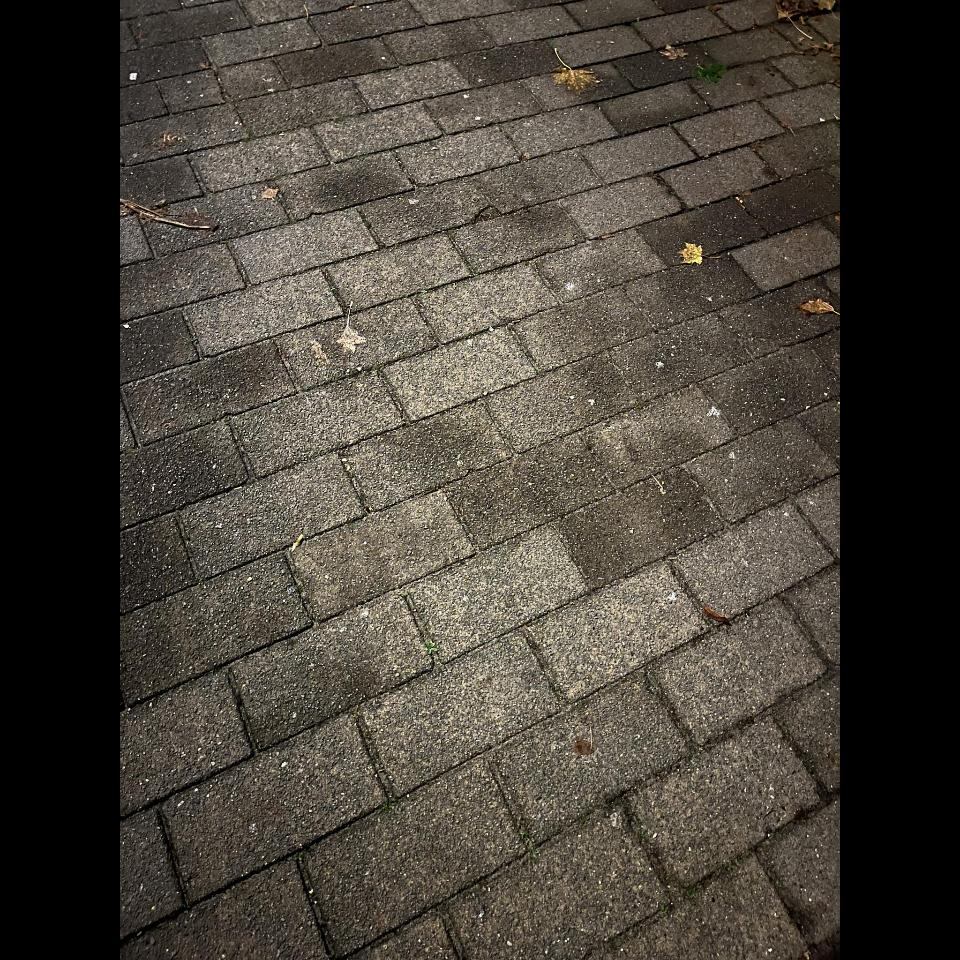weed: (692, 62, 727, 83)
